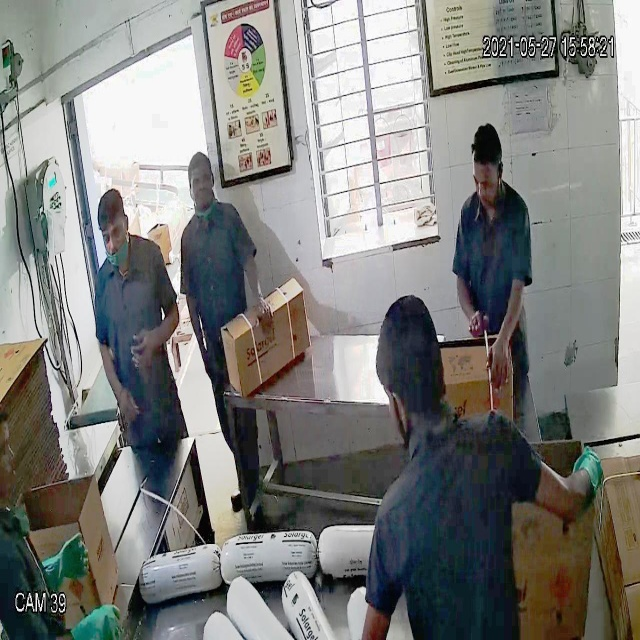Sin_gafas: (94, 220, 133, 251), (186, 173, 222, 199)
